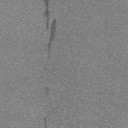red iron: (48, 19, 56, 52), (44, 0, 50, 29), (43, 117, 47, 128), (45, 87, 49, 94)
